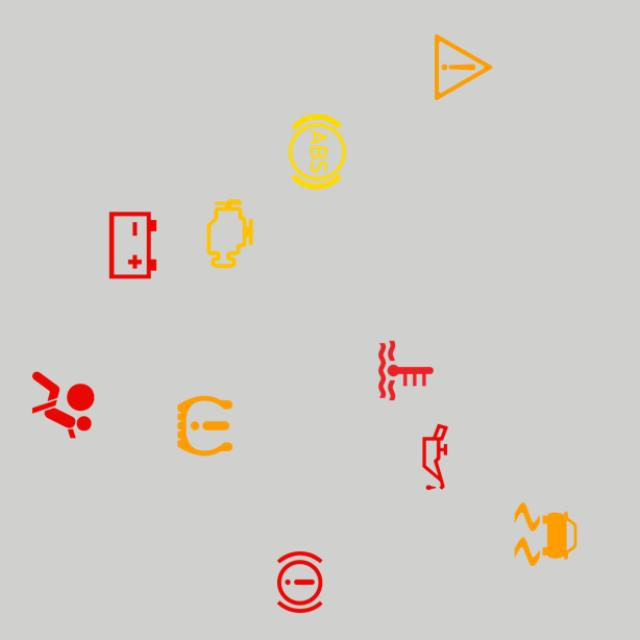Anti Lock Braking System: (276, 110, 358, 192)
Braking System Issue: (258, 541, 340, 623)
Charging System Issue: (92, 205, 174, 286)
Check Engine: (189, 193, 271, 275)
Electronic Stability Problem -ESP-: (504, 493, 586, 575)
Engine Overheating Warning Light: (365, 329, 447, 412)
Low Engine Oil Warning Light: (394, 416, 476, 498)
Low Tire Pressure Warning Light: (164, 385, 246, 467)
Master warning light: (422, 26, 504, 108)
SRS-Airbag: (22, 364, 104, 446)
